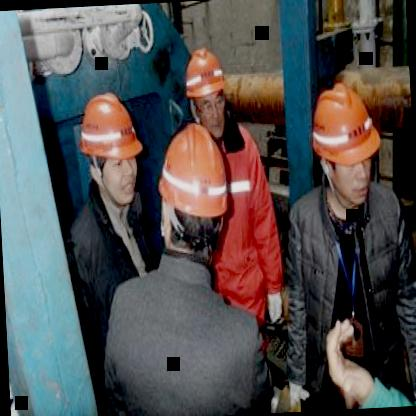helmet: (148, 130, 238, 270), (306, 80, 385, 209), (75, 86, 148, 205), (182, 46, 228, 132)
